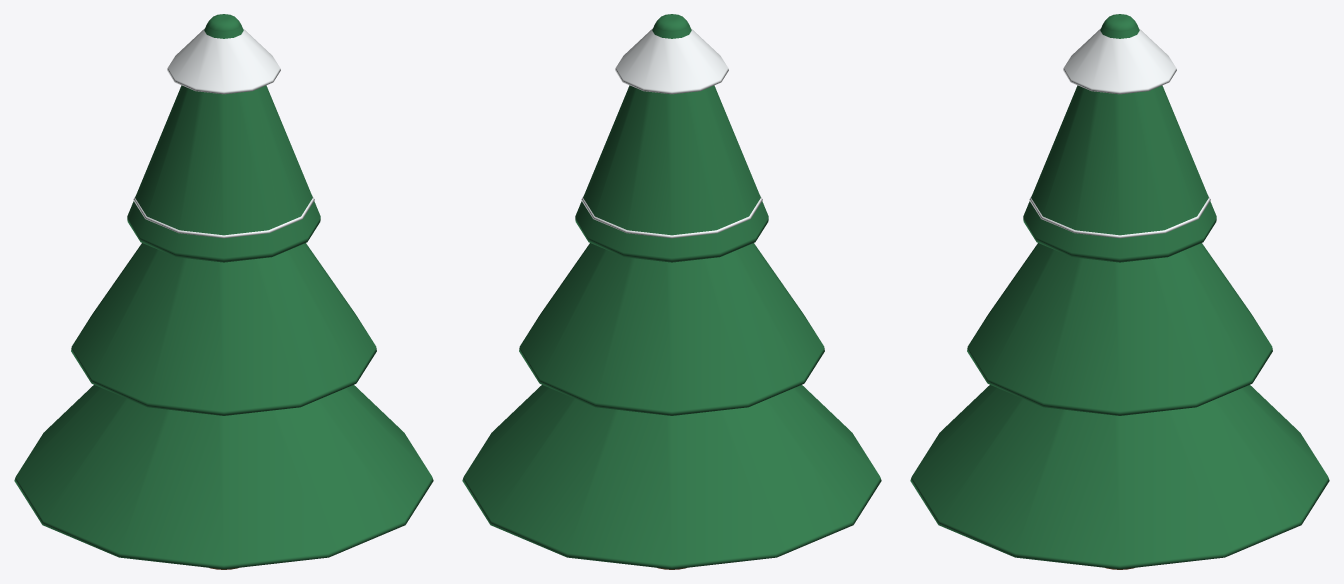
Rendered from pine.glb.
3 renders of one model, left to right at view 1: azimuth 30°, elevation 25°; view 2: azimuth 150°, elevation 25°; view 3: azimuth 270°, elevation 25°, orthographic.
Parts seen in each view (by area): view 1: pine; view 2: pine; view 3: pine.
Boxes of the visible parts, box(x1,y1,x2,y2) form: pine: box(14, 14, 433, 569); pine: box(462, 14, 881, 569); pine: box(910, 14, 1329, 569).
Size of the model in its own units: 1.47 by 2.1 by 1.47.
